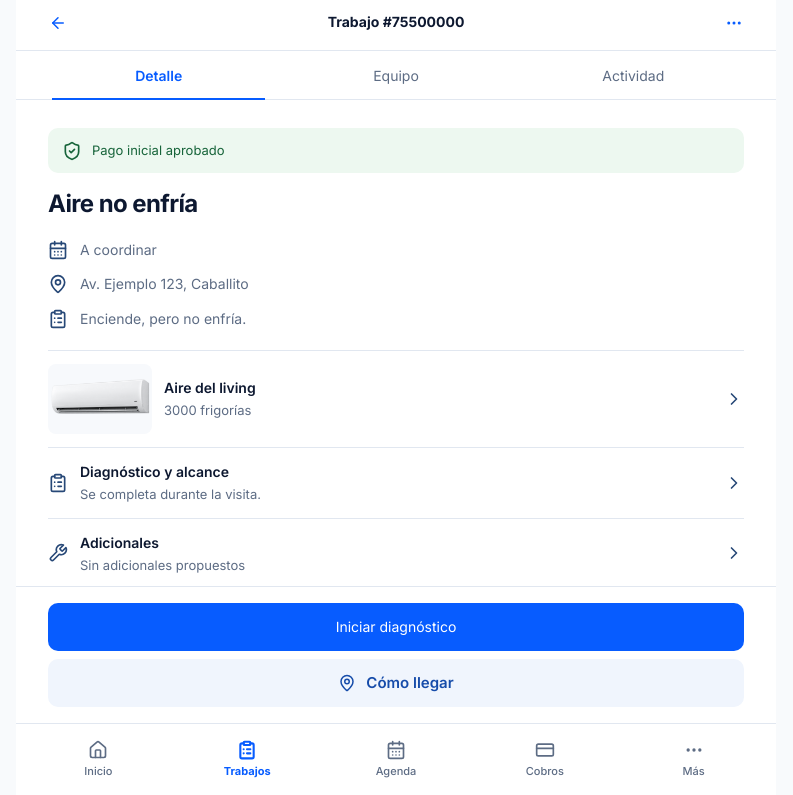
Scenario: approved compact professional job workspace › does not leave a successfully submitted extra editable when the subsequent refresh fails
Expected: the heading "Aire no enfría" is shown, [48, 189, 198, 218]
Click the button "Adicionales Sin adicionales propuestos": point(119, 542) [48, 519, 744, 589]
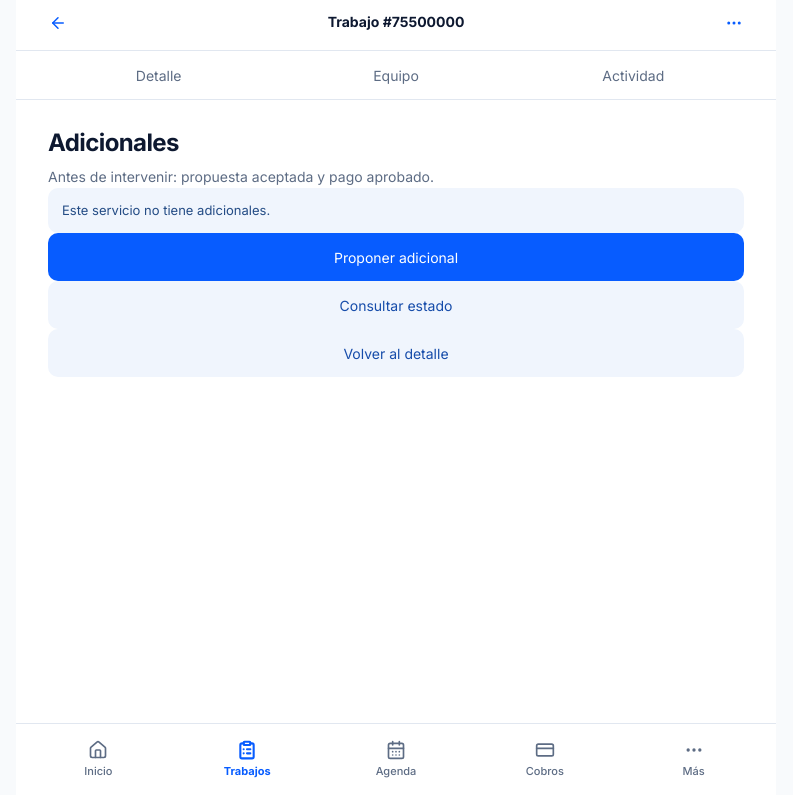
Click the button "Proponer adicional": point(396, 257) [48, 233, 744, 281]
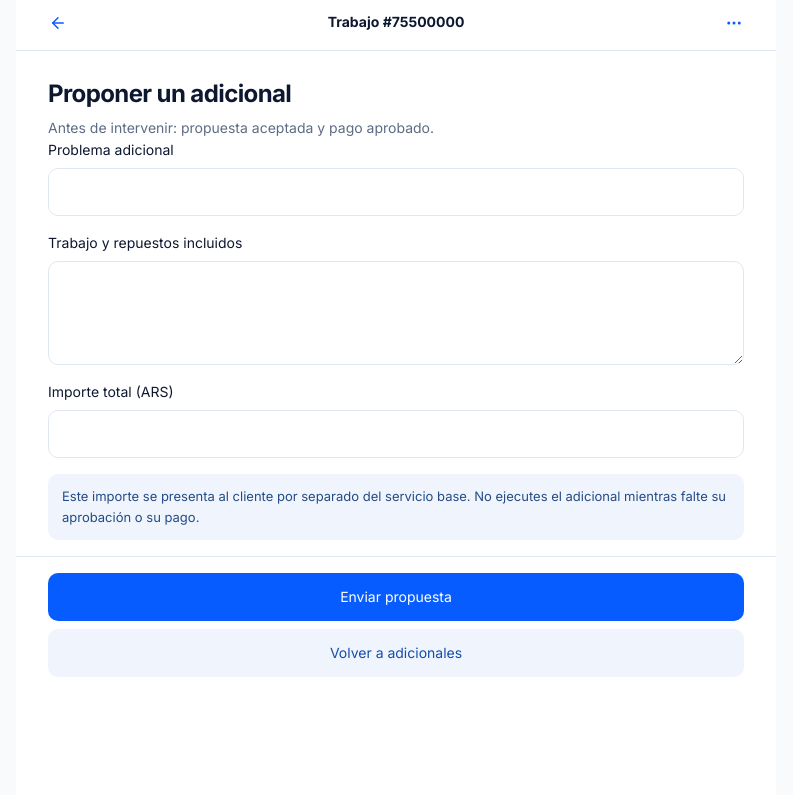
In the field labelled "Problema adicional": point(396, 192) [48, 168, 744, 216], type "Capacitor averiado"
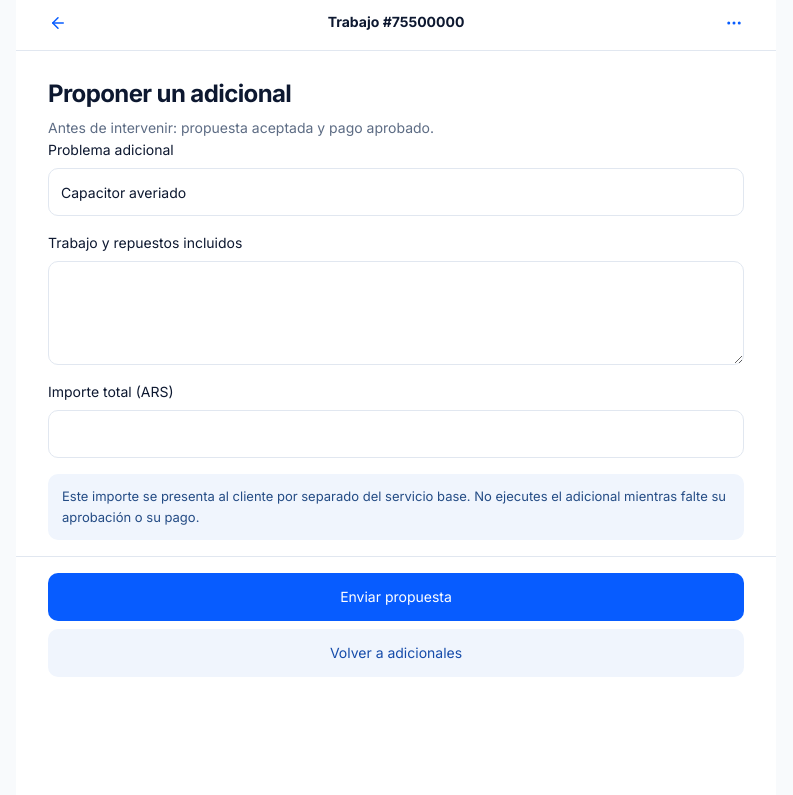
In the text box labelled "Trabajo y repuestos incluidos": point(396, 313) [48, 261, 744, 365], type "Cambio del capacitor y prueba de arranque"
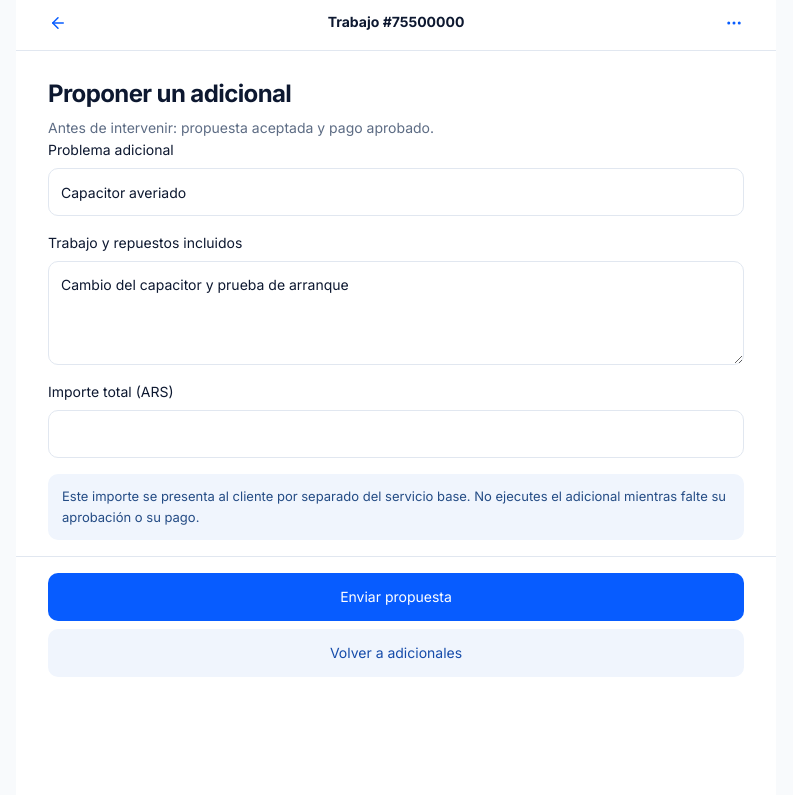
In the field labelled "Importe total (ARS)": point(396, 434) [48, 410, 744, 458], type "28000"
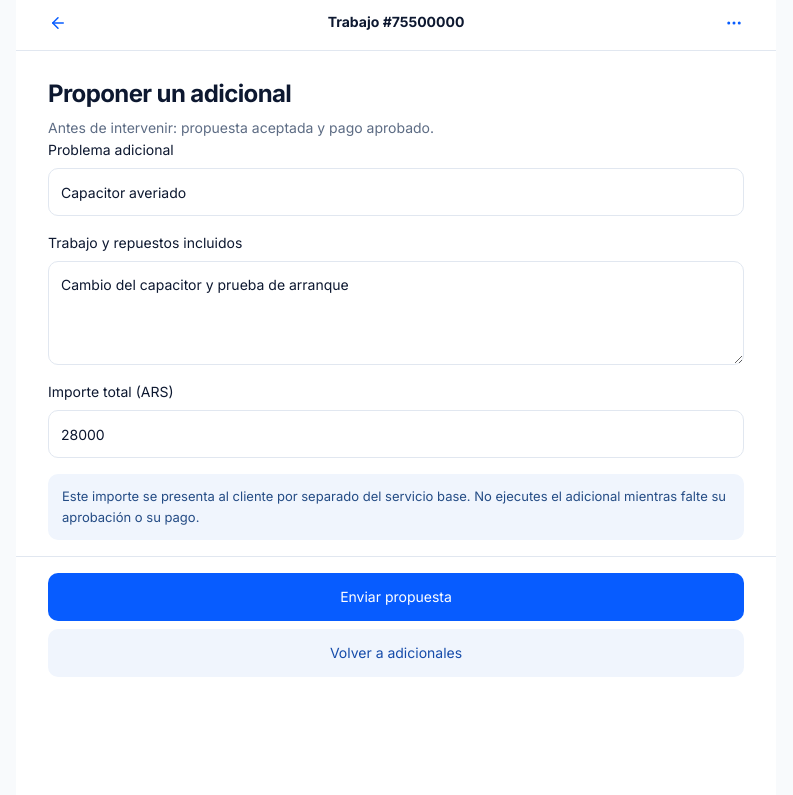
Click the button "Enviar propuesta": point(396, 597) [48, 573, 744, 621]
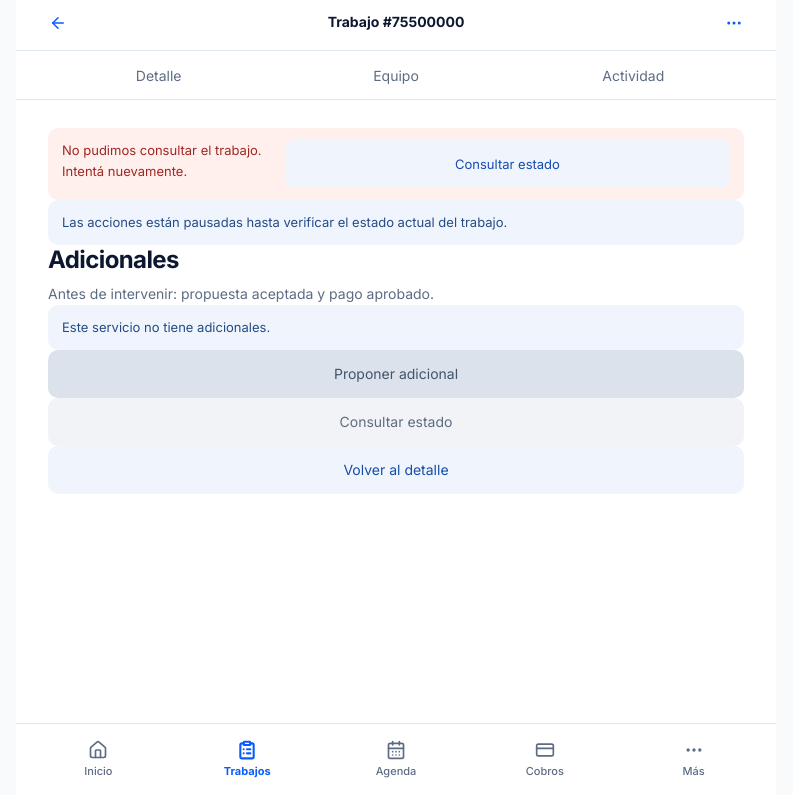
Result: the button "Enviar propuesta" is gone
